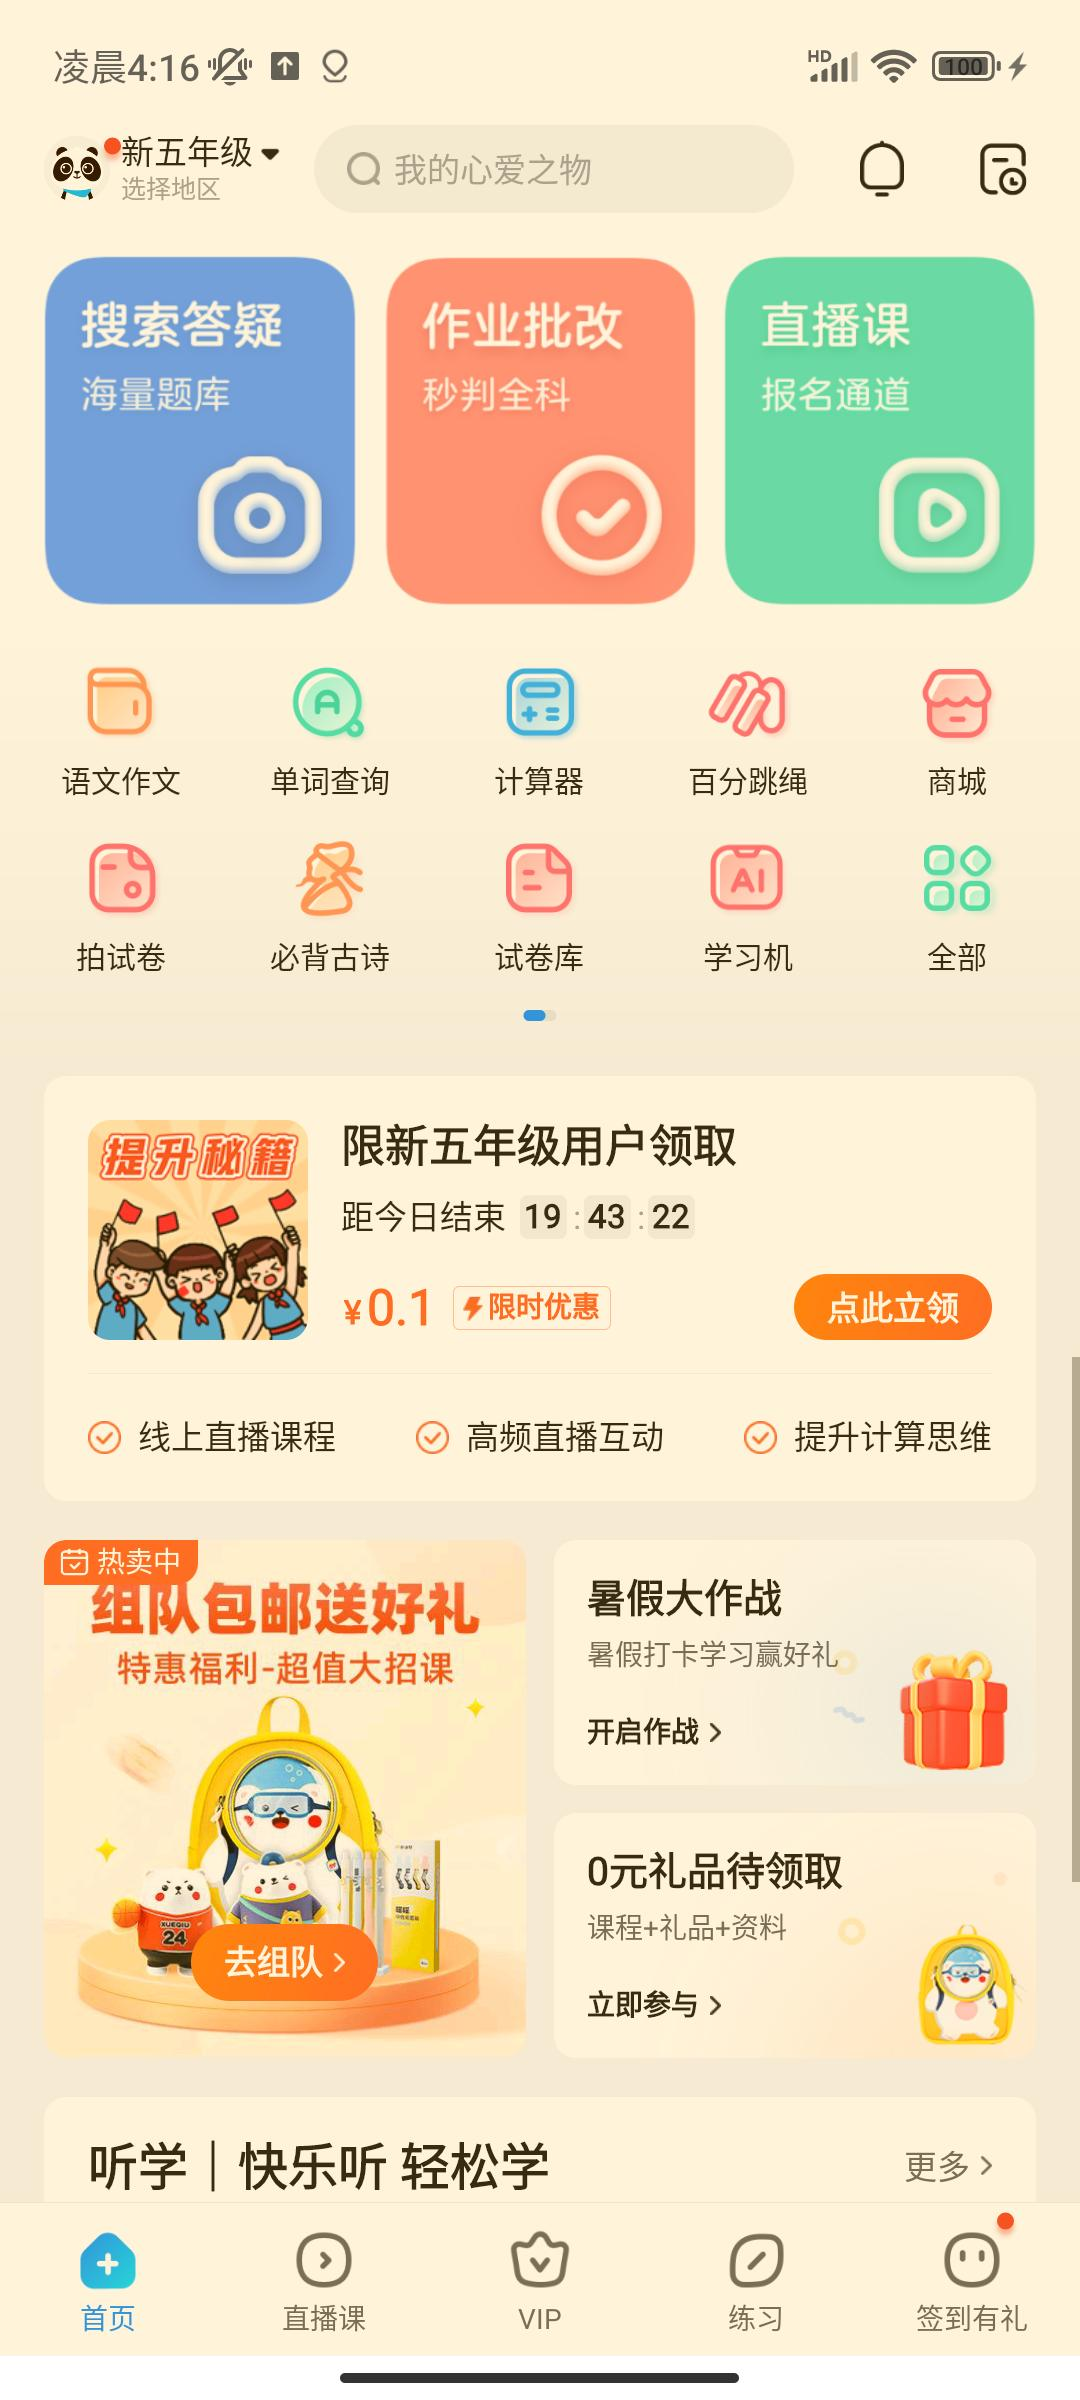ui_group: (46, 1074, 1037, 1508), (41, 1532, 529, 2060), (555, 1809, 1039, 2062), (555, 1540, 1037, 1792), (34, 256, 358, 612), (724, 256, 1033, 612), (382, 259, 699, 603)
